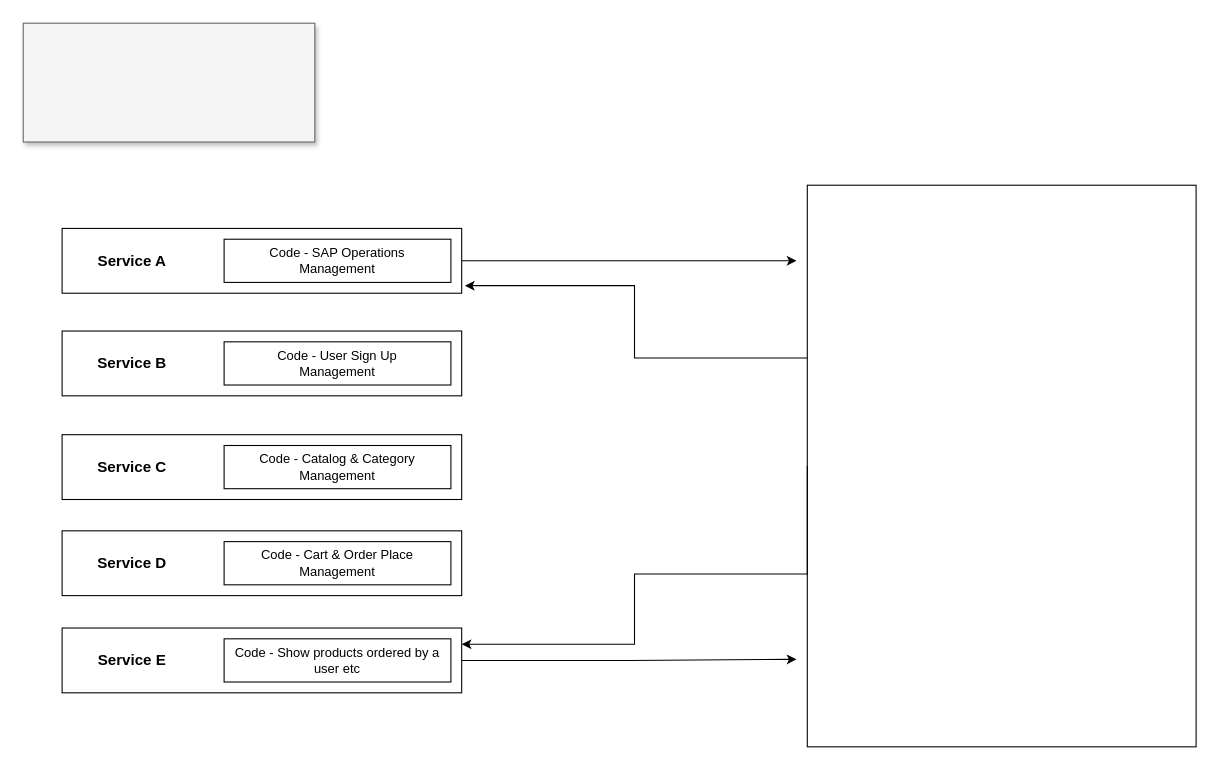
Image size: 1215x766. Some labels were removed from this diagram. Here are the shapes that lost their labels. From the top down, the centre of each, then its label:
the point at 169,84: Example of Async communication
the point at 1001,465: Event Bus
